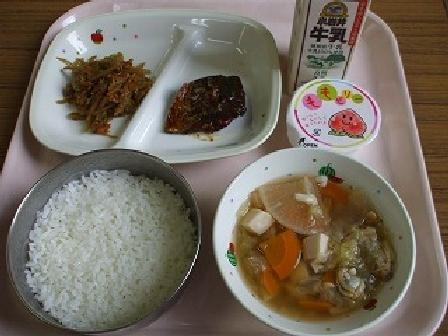Cup desserts: (277, 82, 386, 152)
Fish: (159, 64, 248, 145)
Milk: (281, 4, 368, 95)
Rice: (16, 152, 198, 323)
Soups: (223, 156, 411, 326)
salad with sauce: (53, 38, 157, 127)
